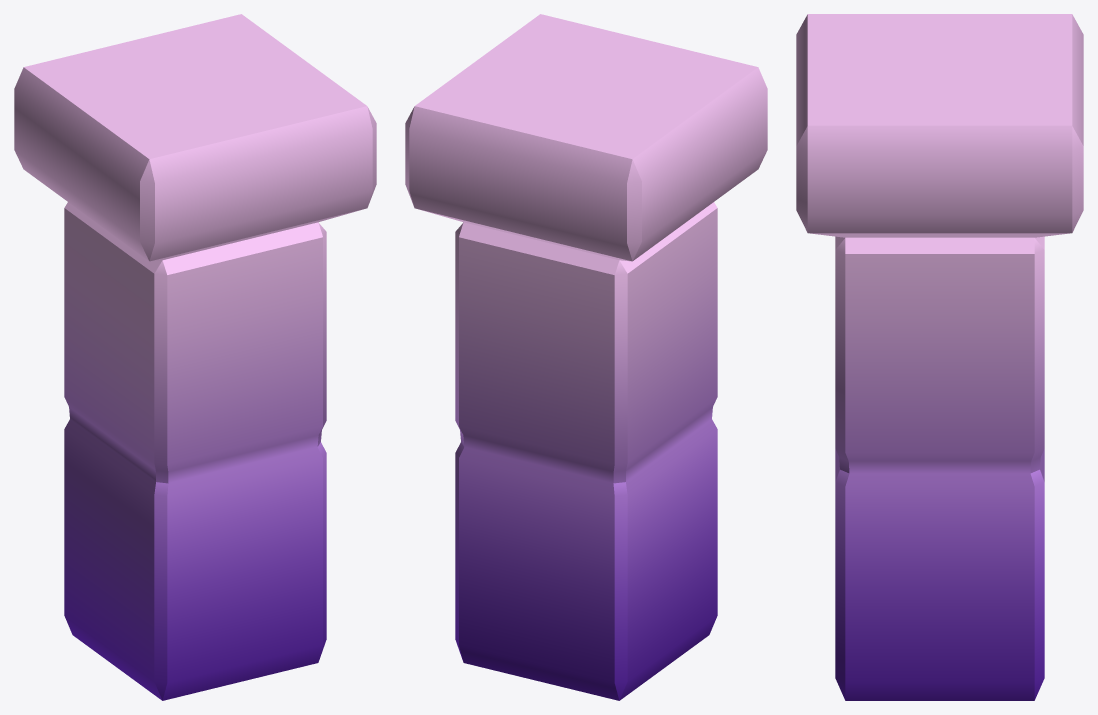
File: Wall_Pillar.fbx
The picture shows the model from 3 angles, left to right: view 1: azimuth 30°, elevation 25°; view 2: azimuth 150°, elevation 25°; view 3: azimuth 270°, elevation 25°; orthographic projection. The views are drawn at different scales.
Parts seen in each view (by area): view 1: PillarWallMesh; view 2: PillarWallMesh; view 3: PillarWallMesh.
Boxes of the visible parts, left/top/right/bottom form: PillarWallMesh: left=14, top=14, right=376, bottom=700; PillarWallMesh: left=405, top=14, right=767, bottom=700; PillarWallMesh: left=796, top=14, right=1083, bottom=700.
Size of the model in its own units: 275 by 624 by 275.
